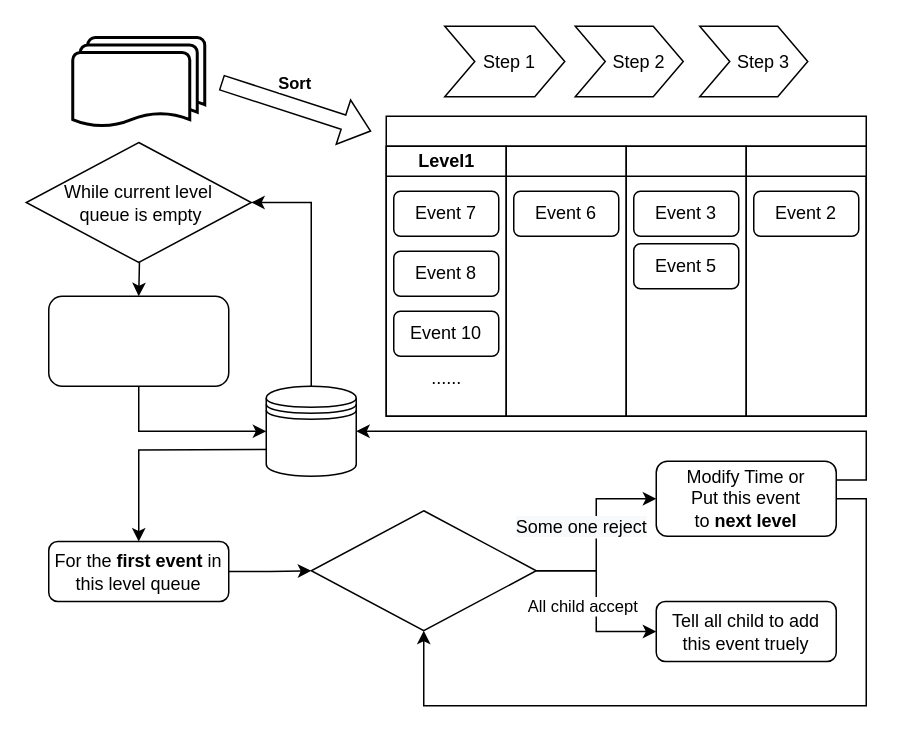
The diagram is 905 pixels wide and 744 high, and some of its shapes have lost their labels. Here are the shapes that lost their labels. From the top down, the box of each, then its label:
(70, 35, 206, 128): Event
(505, 145, 626, 416): Level2
(385, 115, 866, 416): Queue RR Q=10
(625, 145, 746, 416): level3
(745, 145, 866, 416): FCFS
(47, 295, 229, 386): Set current level queue = next level queue
(265, 385, 356, 476): Waiting Queue
(310, 509, 536, 631): tell all child to try to add this event
